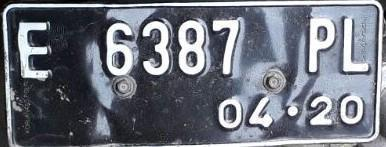3: (134, 19, 174, 78)
6: (100, 20, 136, 79)
7: (206, 22, 240, 78)
8: (172, 18, 208, 78)
E: (16, 23, 62, 79)
L: (339, 13, 374, 80)
P: (303, 14, 340, 80)
Plate: (4, 1, 378, 146)
